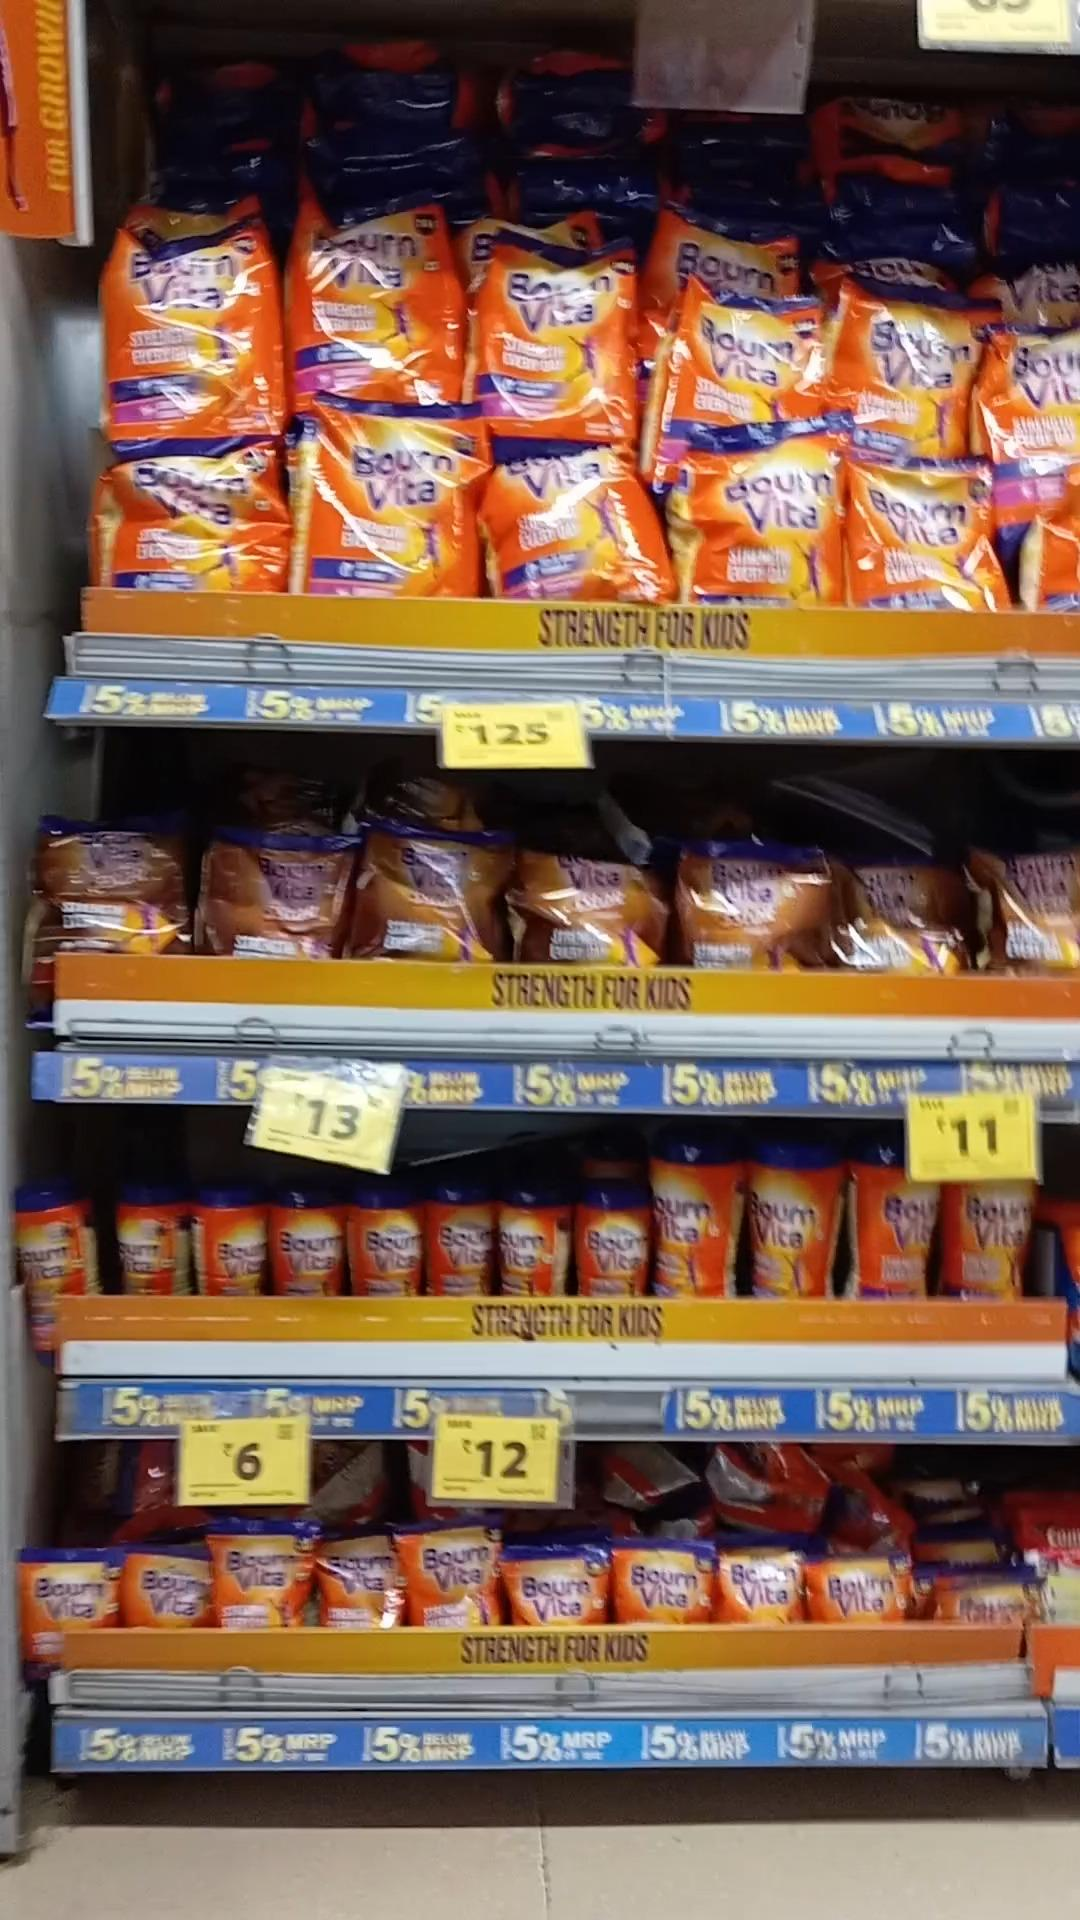BOURN_VITA_200_G_JAR: (16, 1183, 78, 1358), (273, 1182, 344, 1292), (579, 1187, 646, 1299), (109, 1183, 173, 1299), (429, 1184, 493, 1296), (355, 1185, 423, 1291), (206, 1184, 269, 1296), (496, 1184, 555, 1300)
BOURN_VITA_500_G_JAR: (748, 1133, 824, 1303), (651, 1138, 731, 1298), (860, 1139, 938, 1300), (952, 1178, 1034, 1302)
BOURN_VITA_750_G_POUCH: (104, 233, 272, 430), (311, 397, 468, 604), (291, 199, 439, 400), (488, 240, 636, 433), (690, 427, 839, 604), (501, 452, 662, 605), (112, 450, 277, 595), (852, 452, 996, 616), (839, 281, 980, 442), (684, 290, 815, 429)
BOURN_VITA_75_G_POUCH: (18, 1547, 107, 1677), (219, 1523, 309, 1630), (409, 1519, 498, 1621), (616, 1536, 715, 1626), (318, 1526, 402, 1627), (502, 1544, 607, 1623), (125, 1547, 214, 1631)
BOURN_VITA_FIVE_STAR_MAGIC_500_G_POUCH: (678, 840, 858, 971), (36, 816, 186, 953), (508, 848, 665, 973), (200, 836, 345, 961), (363, 833, 497, 965), (988, 839, 1080, 981)
